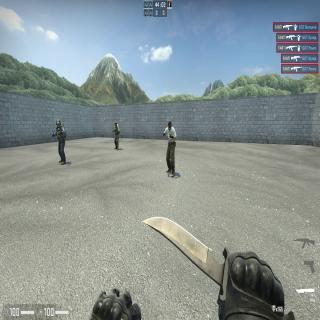CT-Body: (56, 119, 66, 164), (114, 120, 119, 150)
CT-Head: (56, 119, 60, 127), (114, 121, 118, 127)
T-Body: (166, 121, 177, 176)
T-Head: (168, 120, 172, 130)
